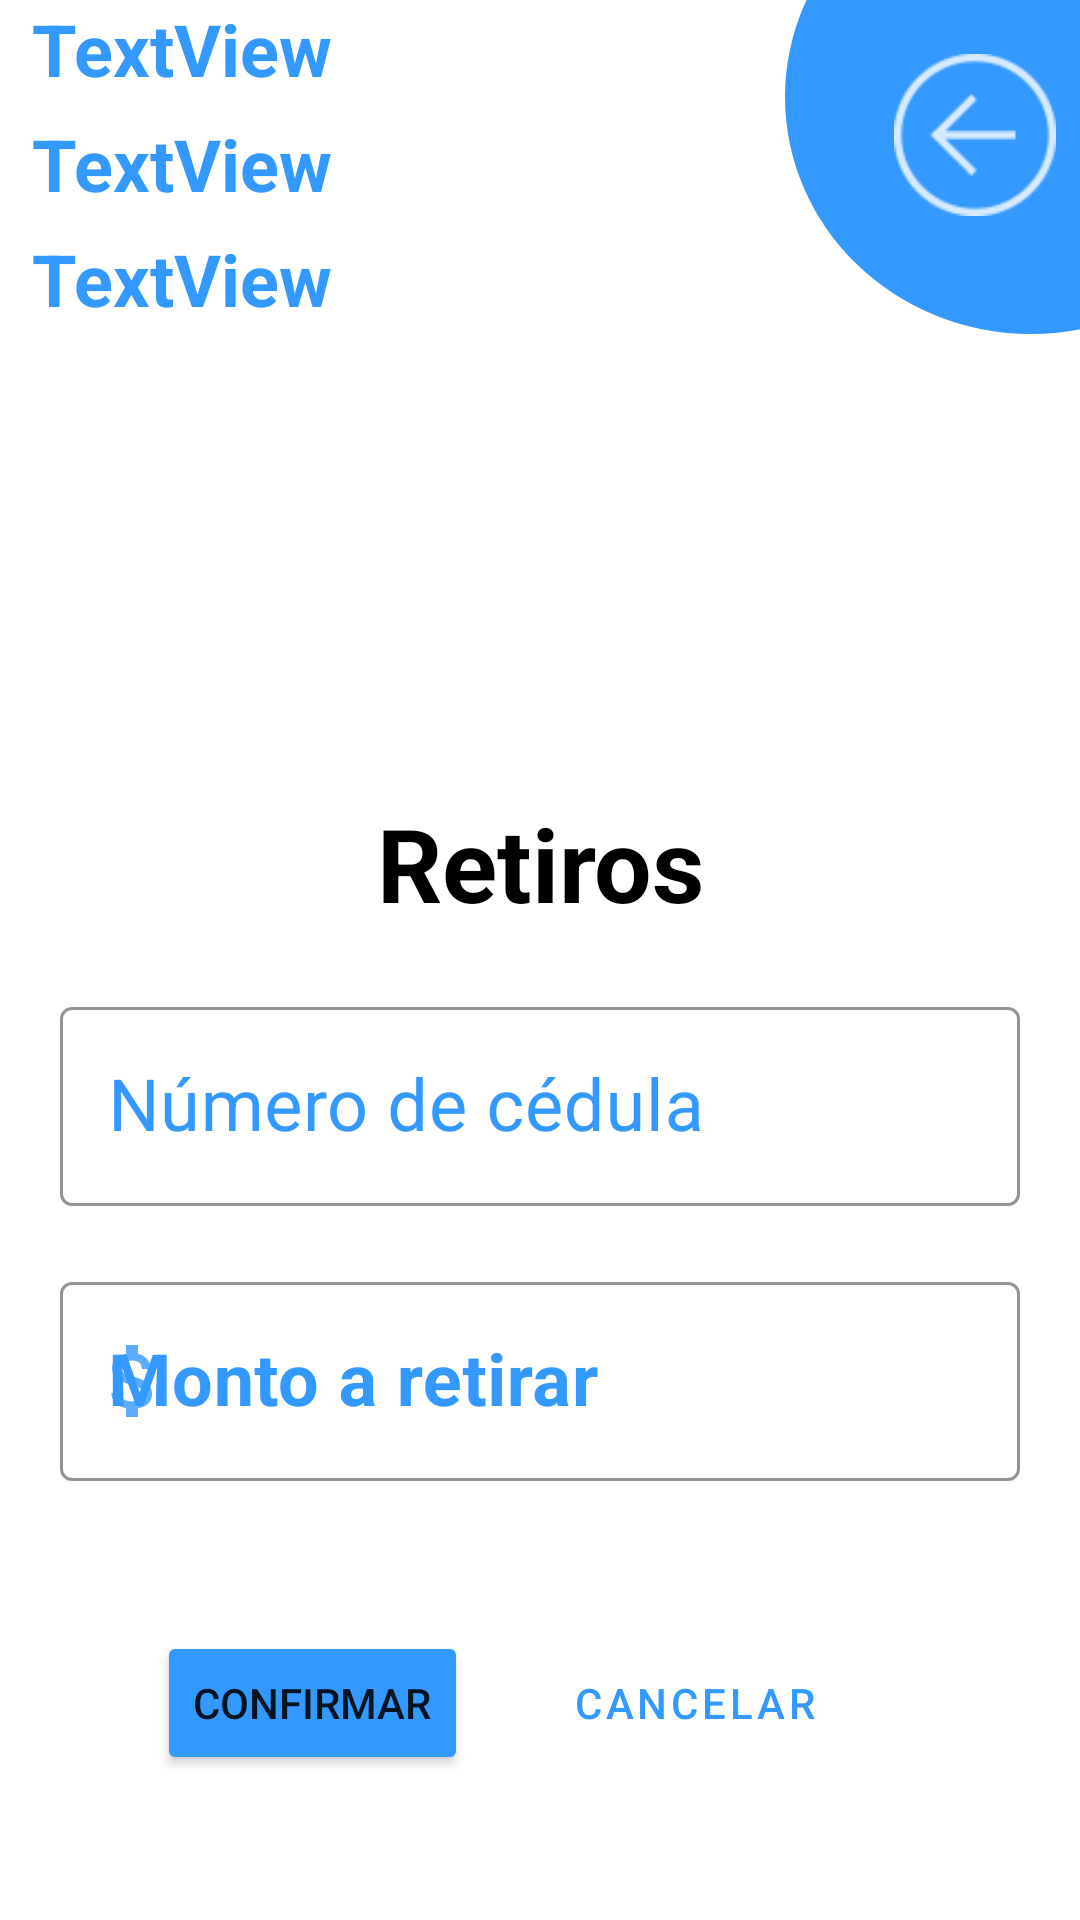

Screen size 1080w x 1920h. Icon name, then its box in pixels as (x1, y1, x2, y2):
arrowback: (894, 54, 1056, 216)
